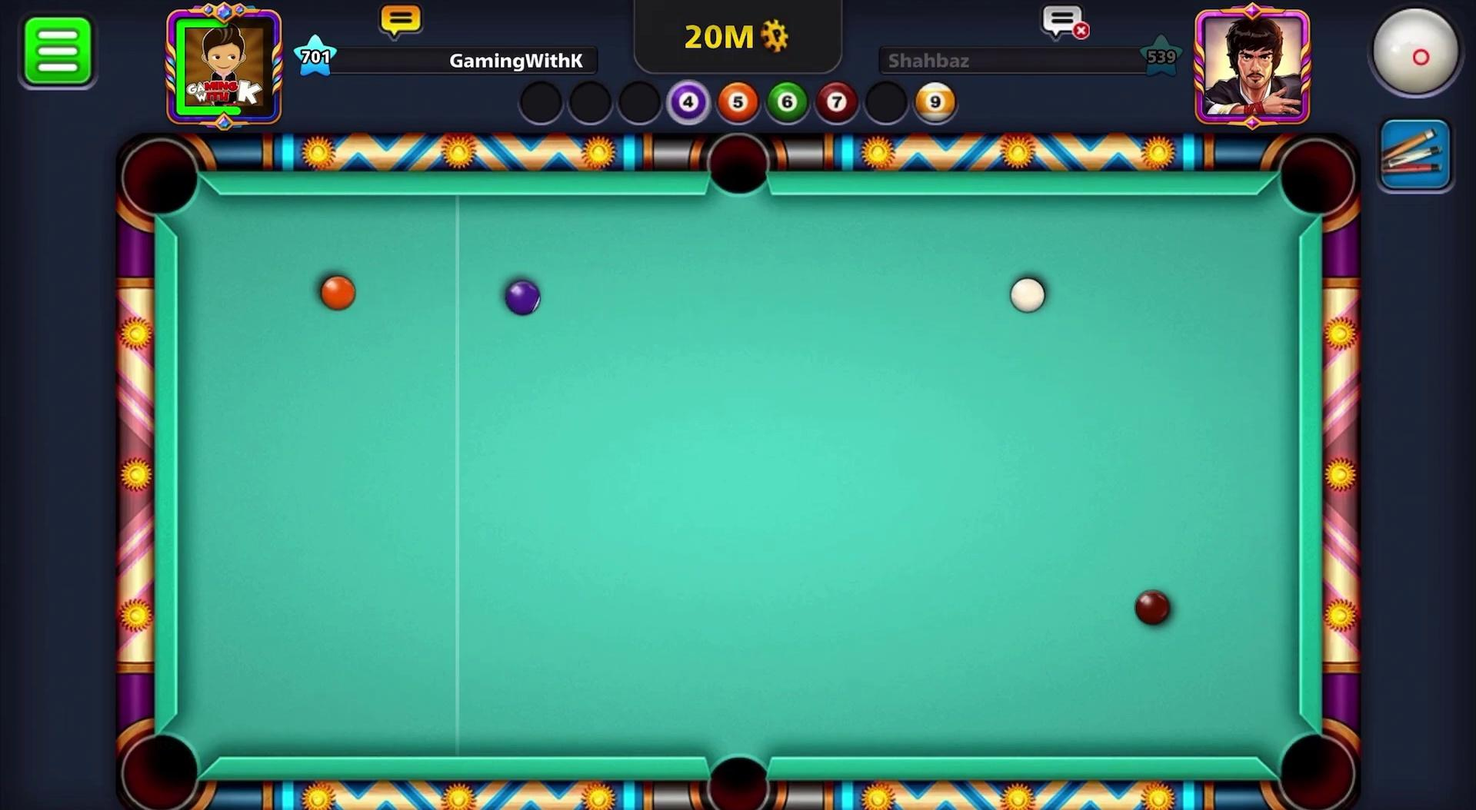Ball: (493, 272, 547, 325), (315, 271, 362, 318), (1131, 584, 1178, 630)
Hole: (112, 125, 216, 237), (1267, 129, 1366, 233), (1265, 708, 1363, 809), (110, 717, 213, 809), (685, 735, 786, 809), (700, 125, 781, 204)
Play_Area: (177, 196, 1301, 761)
Spin: (1341, 0, 1475, 117)
White: (1004, 271, 1053, 318)
